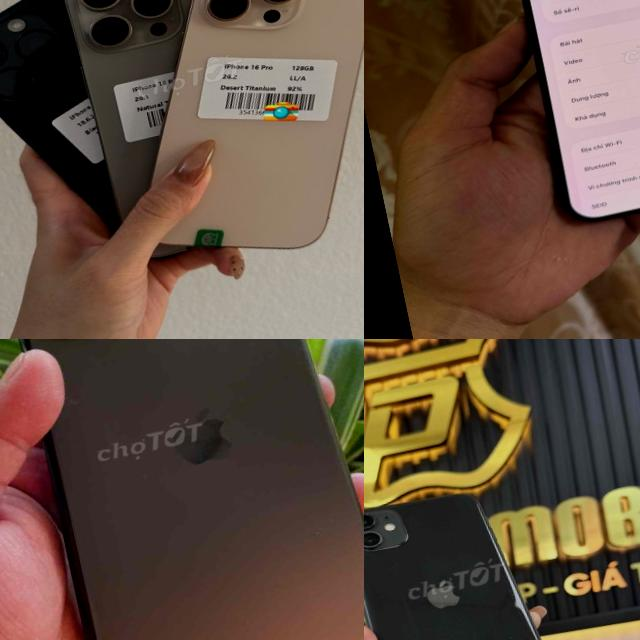gen_11: (28, 339, 364, 640), (364, 472, 568, 640)
gen_15: (483, 0, 640, 246)
gen_16: (90, 0, 364, 289)
